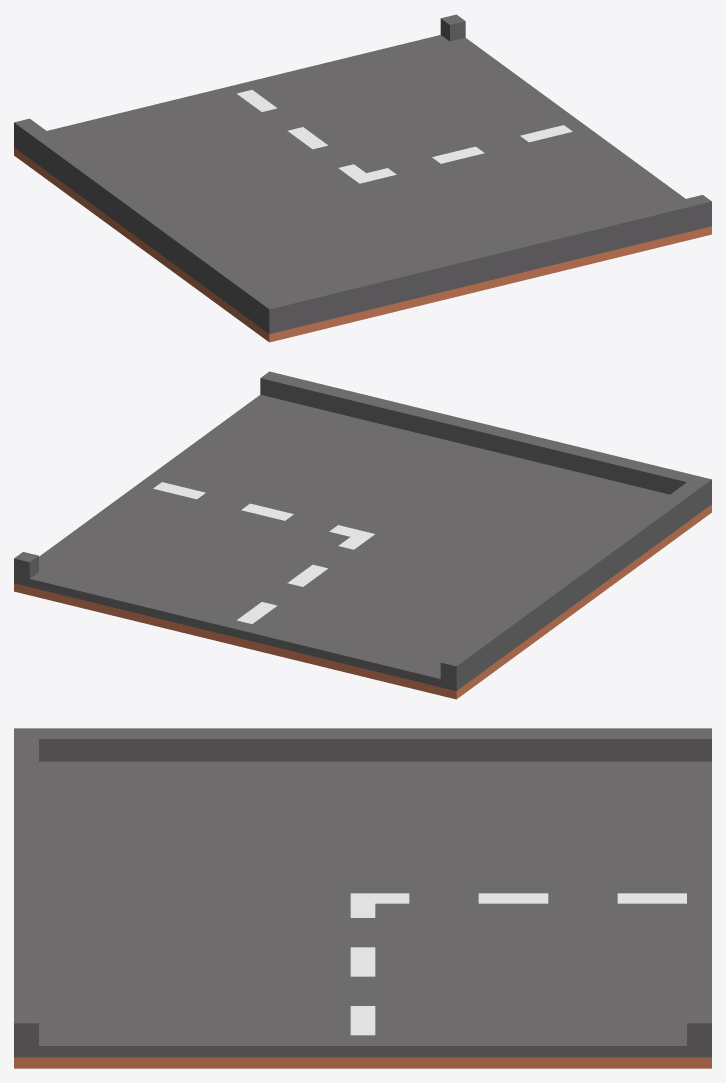
File: RoadTurnTrail.fbx
The picture shows the model from 3 angles, top to bottom: view 1: azimuth 30°, elevation 25°; view 2: azimuth 150°, elevation 25°; view 3: azimuth 270°, elevation 25°; orthographic projection. The views are drawn at different scales.
Visible parts, largest first — view 1: Soil; view 2: Soil; view 3: Soil.
Part boxes in pixels (x1,y1,x2,y2): Soil: (14,14,711,342); Soil: (14,371,711,699); Soil: (14,728,711,1068).
Size of the model in its own units: 560 by 560 by 40.
